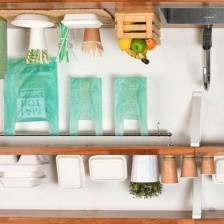plastic_bag: (0, 52, 61, 140), (109, 70, 151, 139), (65, 71, 106, 138)
